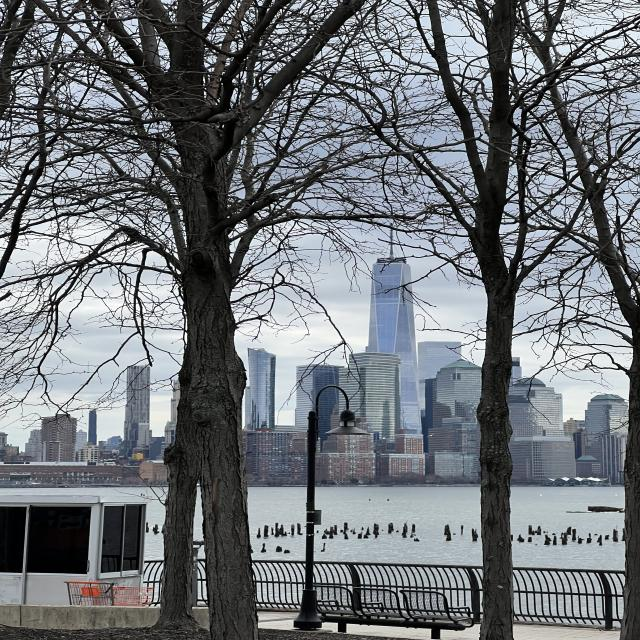WTC: (368, 220, 415, 352)
